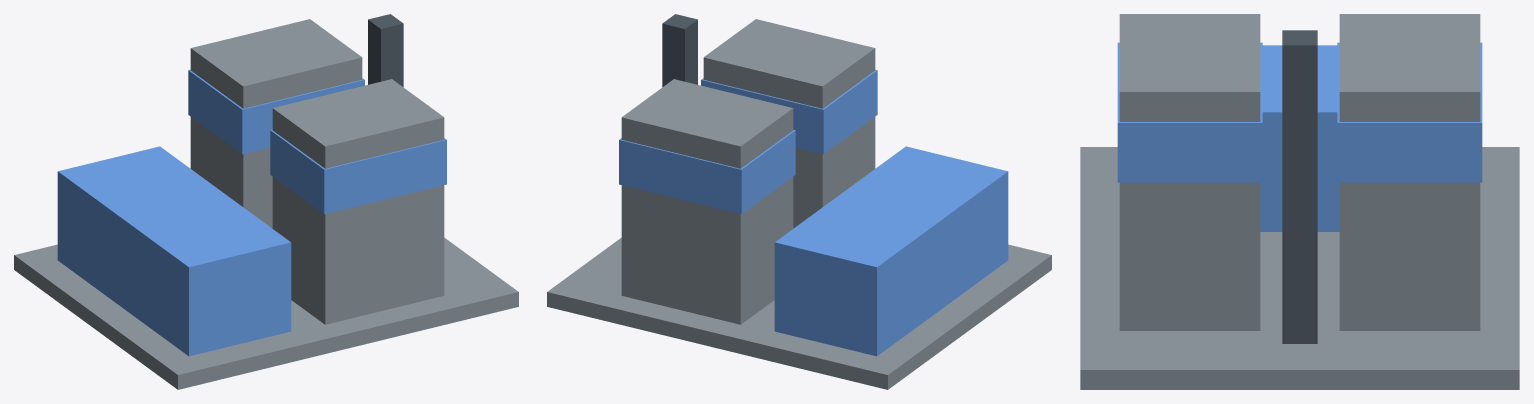
Rendered from raffinaderij.glb.
3 views of the same model, side by side, from view 1: azimuth 30°, elevation 25°; view 2: azimuth 150°, elevation 25°; view 3: azimuth 270°, elevation 25° (orthographic). The views are drawn at different scales.
Visible parts, largest first — view 1: hull_steel_LOD0, hull_team_LOD0, hull_dark_LOD0; view 2: hull_steel_LOD0, hull_team_LOD0, hull_dark_LOD0; view 3: hull_steel_LOD0, hull_team_LOD0, hull_dark_LOD0.
Part boxes in pixels (box(x1,y1,x2,y2)): hull_steel_LOD0: box(14, 19, 518, 389); hull_team_LOD0: box(57, 69, 446, 356); hull_dark_LOD0: box(368, 14, 403, 87); hull_steel_LOD0: box(547, 19, 1051, 389); hull_team_LOD0: box(619, 69, 1008, 356); hull_dark_LOD0: box(662, 14, 697, 87); hull_steel_LOD0: box(1080, 14, 1519, 389); hull_team_LOD0: box(1117, 42, 1482, 231); hull_dark_LOD0: box(1282, 30, 1317, 343).
Size of what is drawn, in the model's own units: 12 by 8 by 10.
